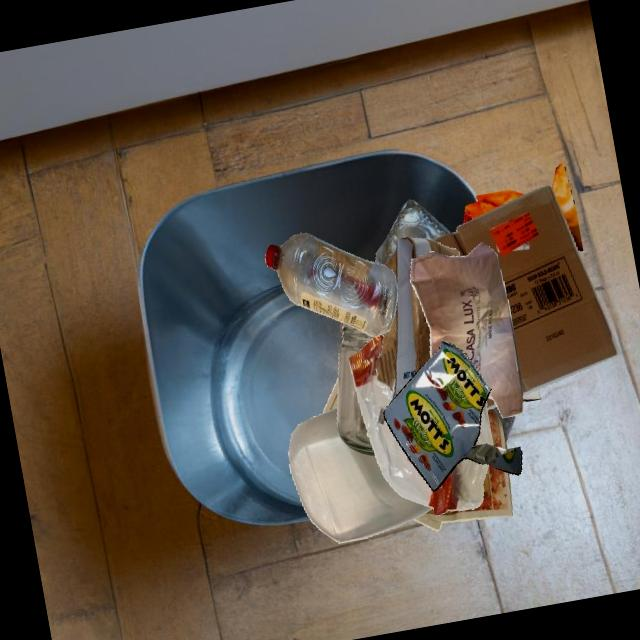biowaste: (552, 162, 583, 250), (463, 190, 524, 223)
cardboard: (505, 185, 621, 395), (382, 227, 505, 410), (375, 237, 459, 401), (522, 388, 540, 400)
glass: (336, 323, 375, 456)
paper: (410, 242, 522, 417), (335, 407, 493, 482), (413, 463, 512, 531)
plastic: (348, 334, 488, 516), (288, 408, 432, 542), (265, 233, 397, 336), (375, 199, 451, 264), (493, 406, 513, 442)
trash: (383, 339, 522, 491)
